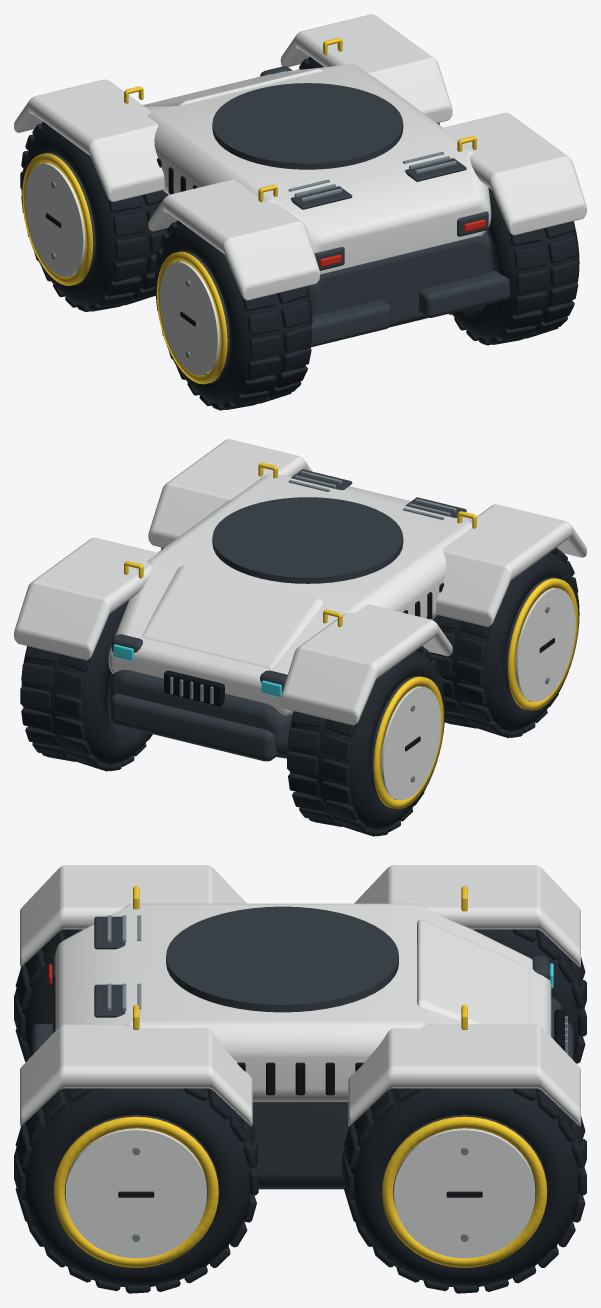
The model's file is scout_wheels.glb.
3 views of the same model, one above another, from view 1: azimuth 30°, elevation 25°; view 2: azimuth 150°, elevation 25°; view 3: azimuth 270°, elevation 25° (orthographic). The views are drawn at different scales.
Visible parts, largest first — view 1: Main armored deck, Turret deck bearing, Fender, Fender.001, Fender.002, Lower monocoque, Fender.003, Tire, Tire.001, Flat wheel cover.001, Flat wheel cover, Tire.002 (+20 smaller); view 2: Main armored deck, Turret deck bearing, Front glacis, Fender.001, Fender.003, Fender, Fender.002, Tire.001, Tire, Tire.003, Front bumper, Flat wheel cover (+17 smaller); view 3: Main armored deck, Turret deck bearing, Tire.002, Tire.003, Flat wheel cover.003, Flat wheel cover.002, Fender.003, Fender.002, Fender.001, Fender, Front glacis, Lower monocoque (+8 smaller).
Boxes of the visible parts, x1=… form: Main armored deck: x1=143, y1=64, x2=491, y2=274; Turret deck bearing: x1=212, y1=83, x2=403, y2=169; Fender: x1=148, y1=179, x2=320, y2=300; Fender.001: x1=14, y1=79, x2=165, y2=201; Fender.002: x1=443, y1=113, x2=586, y2=235; Lower monocoque: x1=166, y1=193, x2=491, y2=327; Fender.003: x1=280, y1=14, x2=452, y2=122; Tire: x1=156, y1=225, x2=312, y2=406; Tire.001: x1=21, y1=127, x2=168, y2=307; Flat wheel cover.001: x1=25, y1=163, x2=85, y2=276; Flat wheel cover: x1=159, y1=261, x2=219, y2=375; Tire.002: x1=451, y1=187, x2=579, y2=340; Main armored deck: x1=108, y1=474, x2=472, y2=716; Turret deck bearing: x1=212, y1=497, x2=403, y2=583; Front glacis: x1=142, y1=565, x2=323, y2=668; Fender.001: x1=280, y1=604, x2=452, y2=725; Fender.003: x1=14, y1=537, x2=157, y2=660; Fender: x1=435, y1=504, x2=586, y2=626; Fender.002: x1=148, y1=439, x2=312, y2=547; Tire.001: x1=288, y1=650, x2=444, y2=830; Tire: x1=431, y1=552, x2=579, y2=732; Tire.003: x1=21, y1=600, x2=152, y2=765; Front bumper: x1=110, y1=693, x2=278, y2=761; Flat wheel cover: x1=515, y1=587, x2=575, y2=701; Main armored deck: x1=55, y1=903, x2=551, y2=1101; Turret deck bearing: x1=166, y1=906, x2=398, y2=1012; Tire.002: x1=22, y1=1088, x2=250, y2=1286; Tire.003: x1=350, y1=1088, x2=578, y2=1286; Flat wheel cover.003: x1=394, y1=1128, x2=535, y2=1258; Flat wheel cover.002: x1=65, y1=1128, x2=206, y2=1258; Fender.003: x1=348, y1=1024, x2=580, y2=1126; Fender.002: x1=20, y1=1024, x2=252, y2=1126; Fender.001: x1=354, y1=865, x2=580, y2=967; Fender: x1=20, y1=865, x2=246, y2=967; Front glacis: x1=417, y1=920, x2=530, y2=1024; Lower monocoque: x1=52, y1=993, x2=562, y2=1189.
Size of the model in its own units: 1.7 by 0.911 by 1.92.
